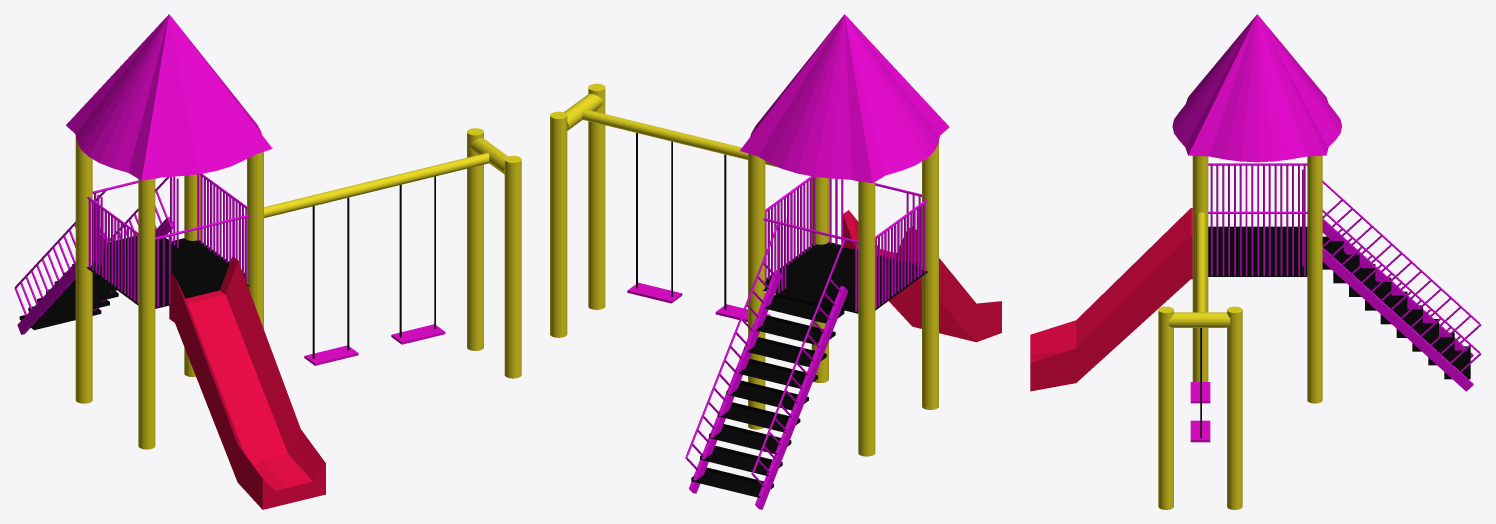
File: kaydirak.fbx
3 renders of one model, left to right at view 1: azimuth 30°, elevation 25°; view 2: azimuth 150°, elevation 25°; view 3: azimuth 270°, elevation 25°, orthographic. The views are drawn at different scales.
Visible parts, largest first — view 1: Tepe, Kaydırak, Cylinder.002, Cylinder.001, Zemin, Cylinder.005, Cylinder.004, Parmaklık.005, Cylinder.006, Cylinder.003, Parmaklık, Merdiven (+8 smaller); view 2: Tepe, Merdiven, Kaydırak, Cylinder.001, Zemin, Cylinder.002, Cylinder.004, Cylinder.005, Cylinder, Parmaklık.005, Parmaklık, Merdiven Kenar 1 (+11 smaller); view 3: Tepe, Kaydırak, Cylinder, Zemin, Merdiven, Cylinder.004, Cylinder.005, Parmaklık, Cylinder.003, Merdiven Kenar 2, Parmaklık.005, Merdiven Kenar 1 (+6 smaller).
Boxes of the visible parts, box(x1,y1,x2,y2) form: Tepe: box(66, 14, 272, 180); Kaydırak: box(169, 256, 325, 509); Cylinder.002: box(138, 178, 155, 449); Cylinder.001: box(75, 136, 92, 403); Zemin: box(86, 238, 249, 308); Cylinder.005: box(504, 155, 521, 378); Cylinder.004: box(467, 128, 483, 350); Parmaklık.005: box(88, 200, 138, 303); Cylinder.006: box(264, 152, 489, 217); Cylinder.003: box(247, 152, 263, 328); Parmaklık: box(197, 174, 246, 276); Merdiven: box(19, 235, 168, 330); Tepe: box(740, 14, 949, 183); Merdiven: box(691, 294, 844, 497); Kaydırak: box(843, 210, 1001, 342); Cylinder.001: box(858, 181, 875, 456); Zemin: box(762, 242, 927, 313); Cylinder.002: box(922, 141, 938, 409); Cylinder.004: box(550, 111, 567, 337); Cylinder.005: box(588, 83, 605, 309); Cylinder: box(748, 153, 765, 429); Parmaklık.005: box(875, 203, 925, 308); Parmaklık: box(765, 176, 815, 281); Merdiven Kenar 1: box(755, 286, 848, 509); Tepe: box(1172, 14, 1341, 162); Kaydırak: box(1030, 208, 1192, 391); Cylinder: box(1307, 156, 1322, 403); Zemin: box(1208, 226, 1307, 276); Merdiven: box(1322, 236, 1470, 379); Cylinder.004: box(1227, 306, 1242, 509); Cylinder.005: box(1158, 306, 1173, 509); Parmaklık: box(1210, 214, 1305, 276); Cylinder.003: box(1192, 155, 1208, 403); Merdiven Kenar 2: box(1322, 247, 1473, 391); Parmaklık.005: box(1210, 165, 1305, 211); Merdiven Kenar 1: box(1322, 218, 1473, 358).
Bounding box in the file's own units: 17.59 × 17.49 × 19.7.
